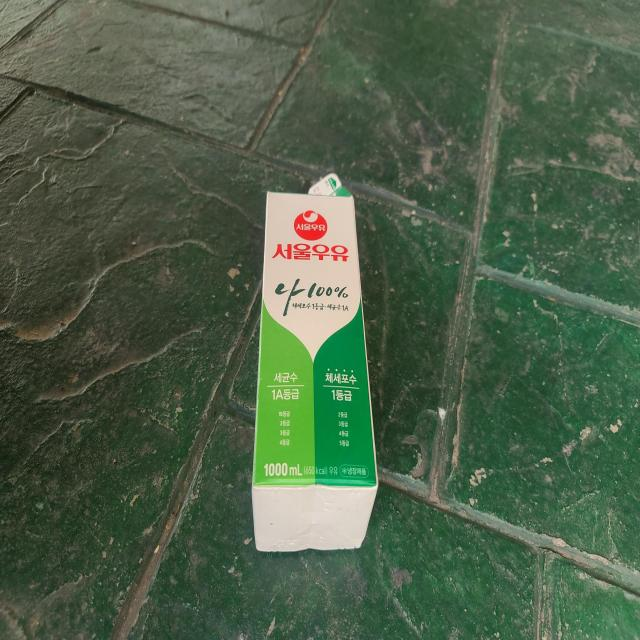paperpack: (252, 173, 378, 552)
